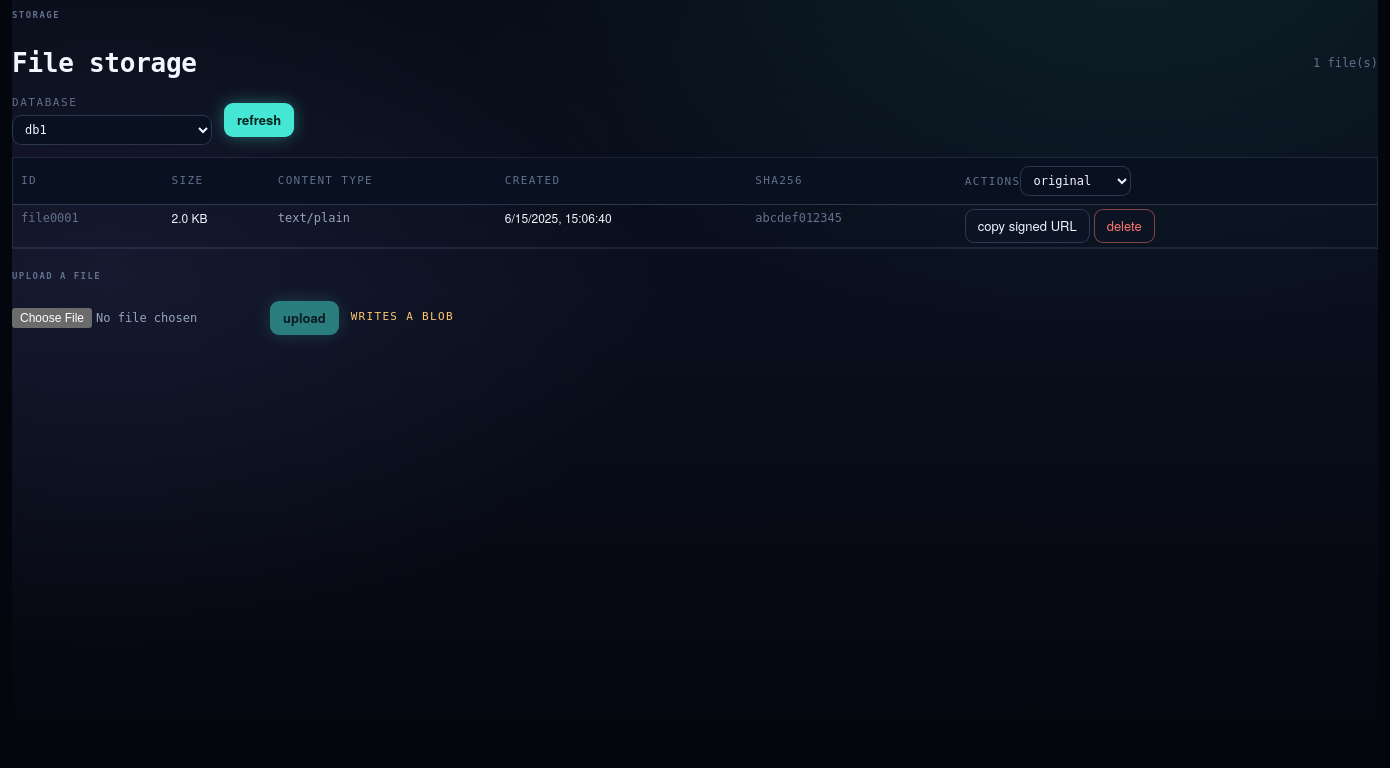
Test: StoragePage › disables copy with an inline reason if signed-URL mint fails
The width and height of the screenshot is (1390, 768).
Click the button "copy signed URL" at [1027, 226], box 965,209 -> 1090,243
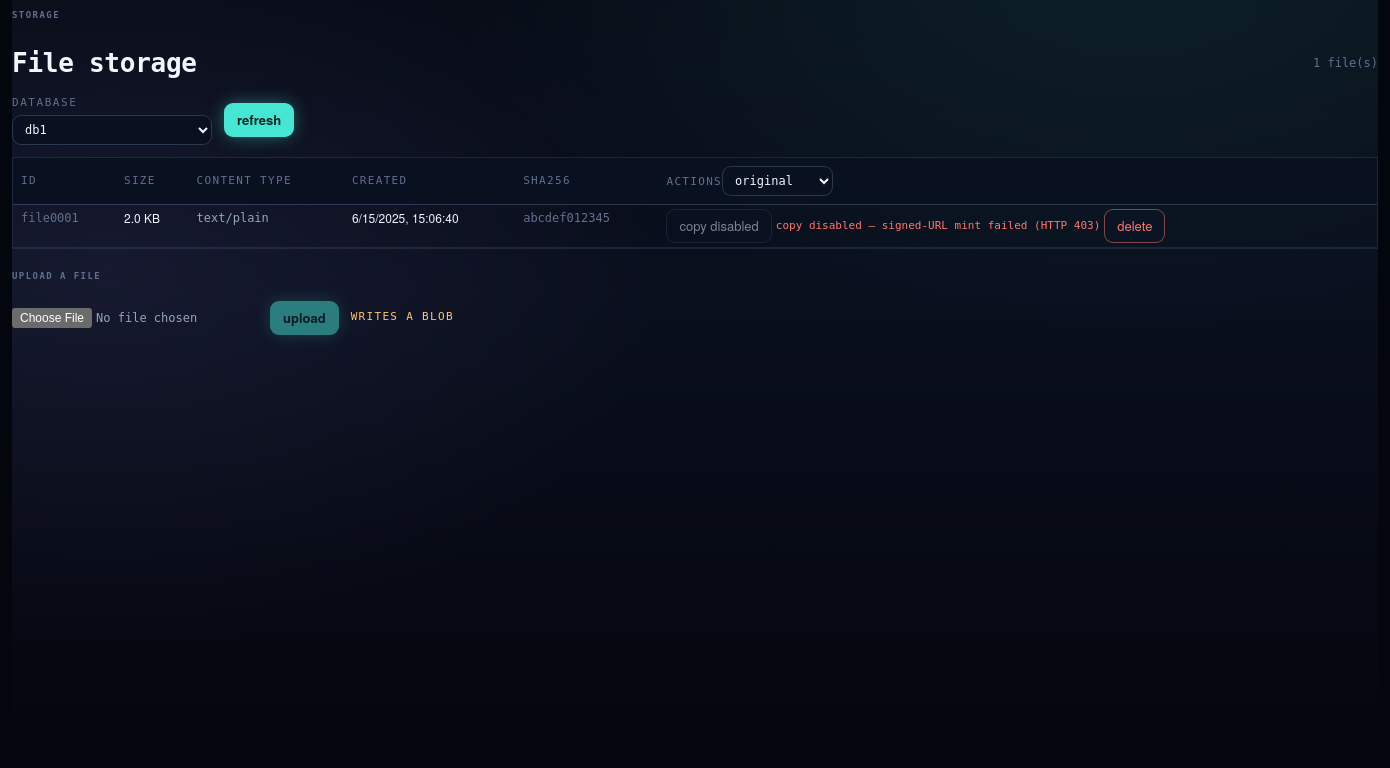
Expected: the button "copy disabled" is disabled, 666,209 -> 772,243
Expected: the message reads "copy disabled — signed-URL mint failed (HTTP 403)", 776,218 -> 1100,234
